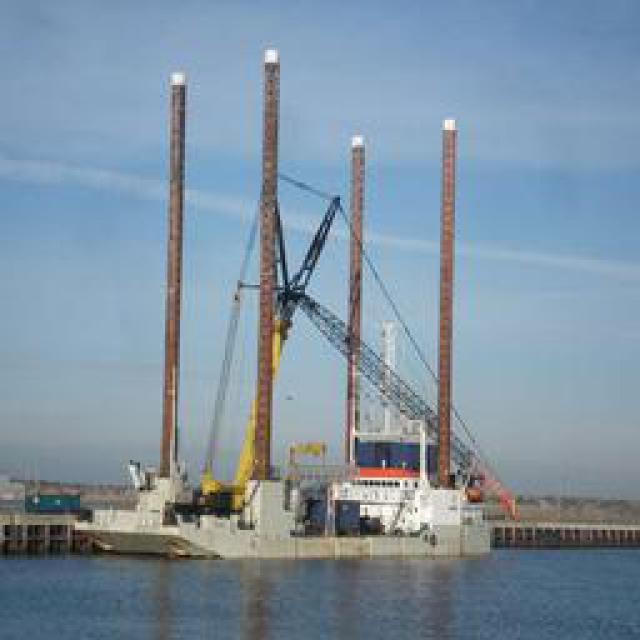Ship: (86, 42, 526, 565)
